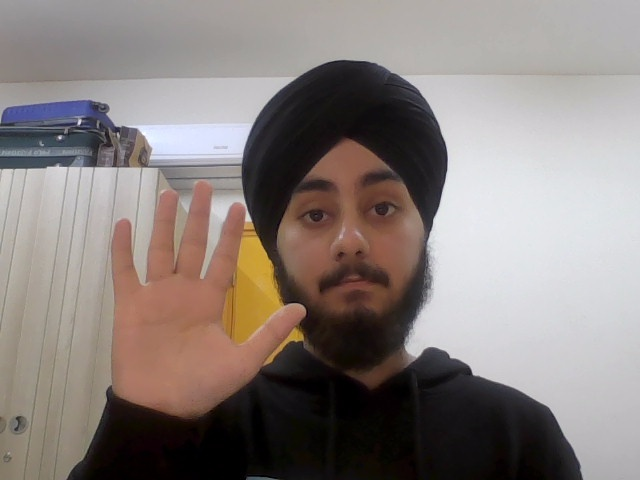Hello: (106, 177, 306, 418)
